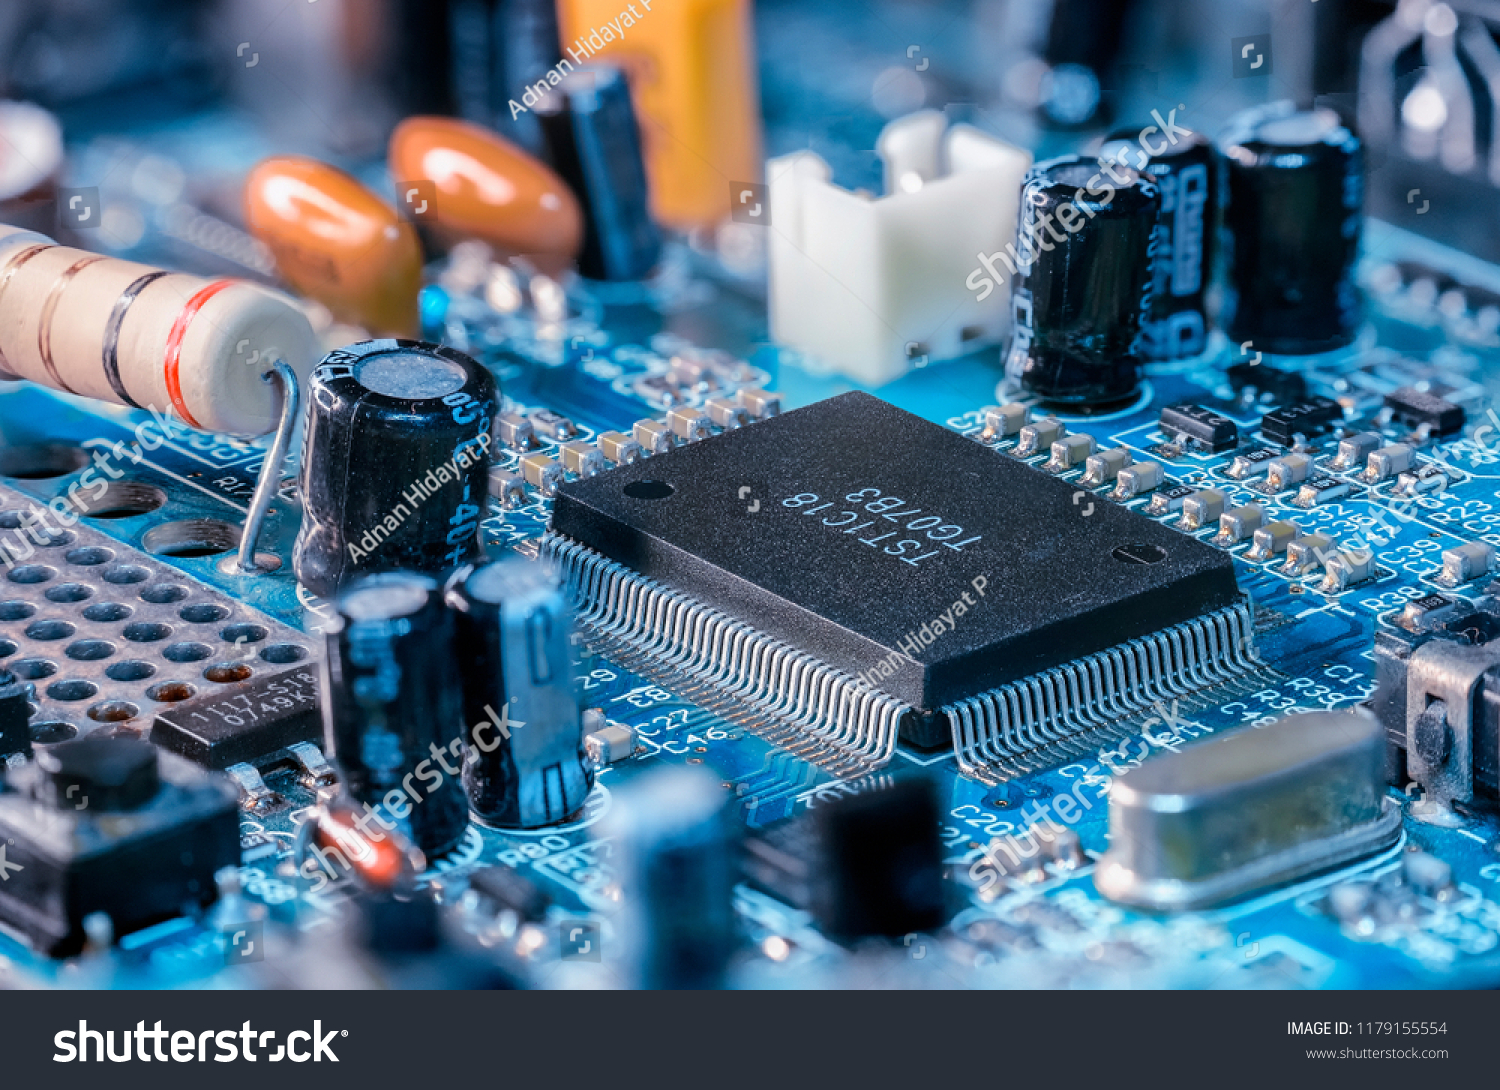capacitor: (291, 314, 512, 606), (1208, 100, 1418, 391), (436, 543, 630, 837), (293, 564, 475, 852), (1009, 148, 1170, 431), (1096, 109, 1219, 403)
